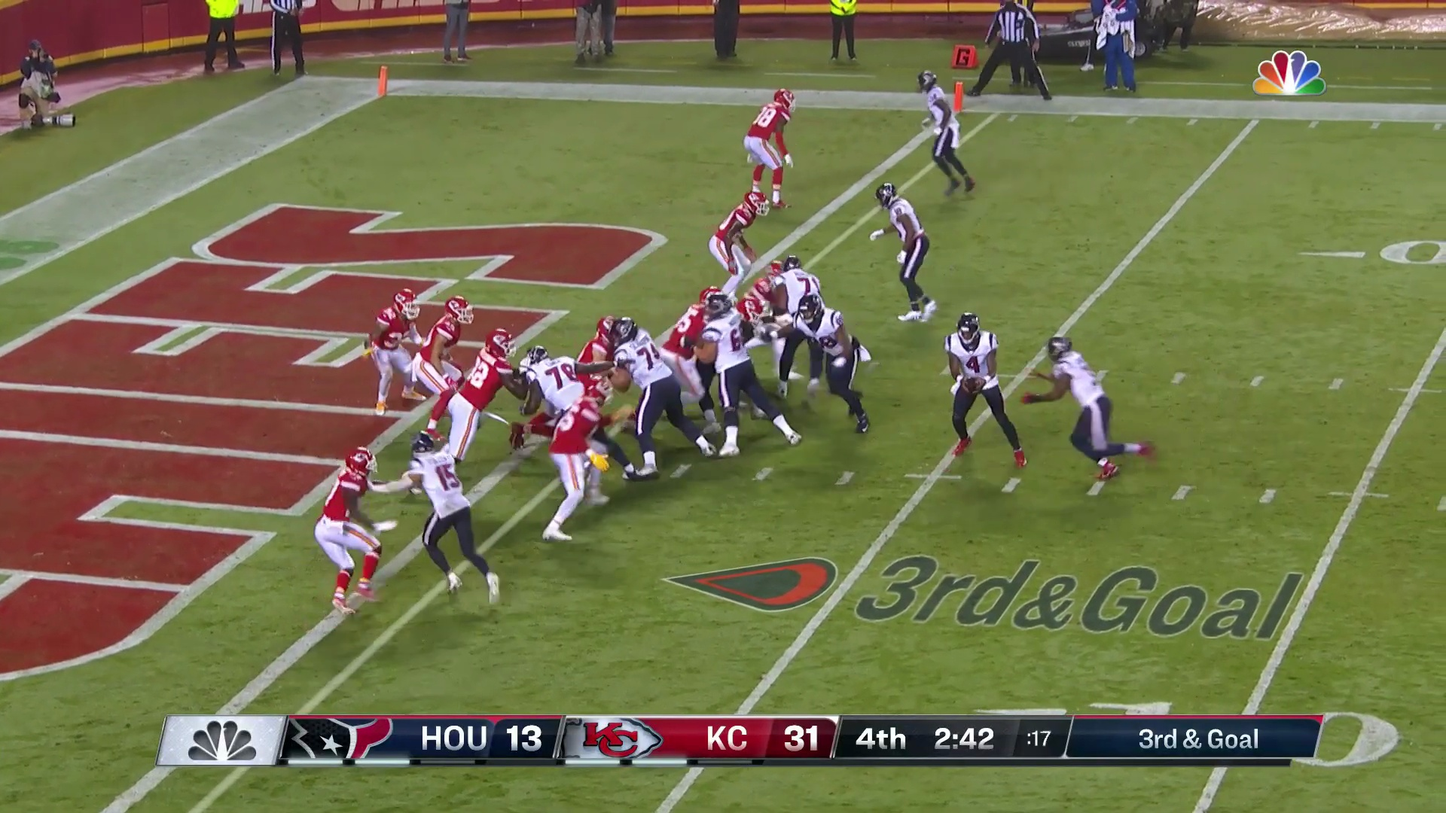Player: (315, 447, 380, 610), (613, 319, 681, 474), (543, 389, 608, 539), (702, 291, 753, 454), (414, 296, 472, 437), (448, 329, 509, 460), (773, 257, 824, 393), (709, 187, 769, 293), (663, 297, 711, 423), (370, 289, 419, 410), (745, 88, 794, 207), (740, 264, 785, 345), (530, 351, 582, 419)
